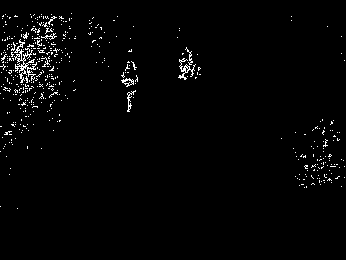person: (120, 58, 138, 113)
